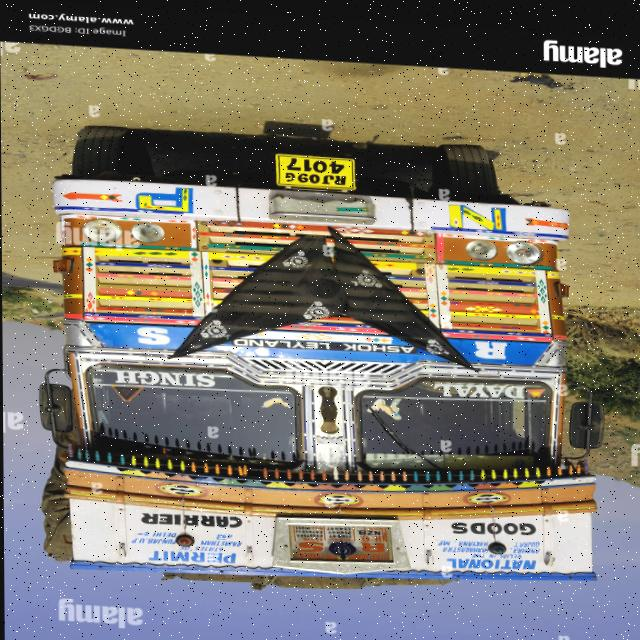plate: (270, 147, 355, 187)
